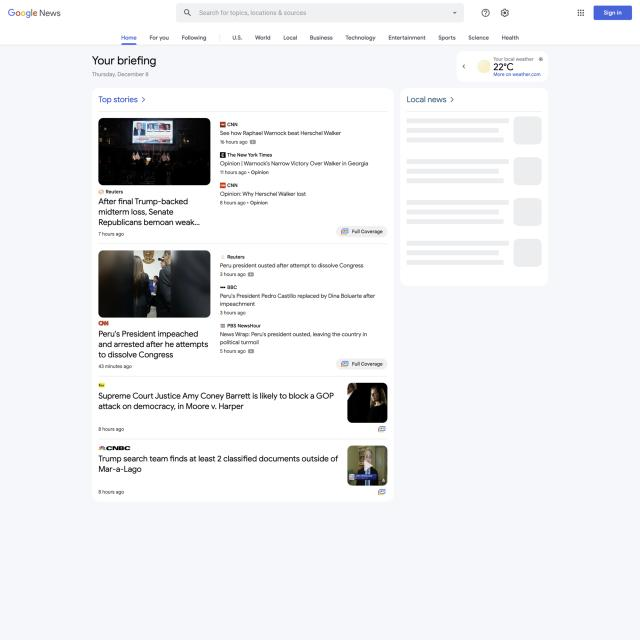input: (177, 2, 465, 22)
logo: (5, 1, 64, 23)
